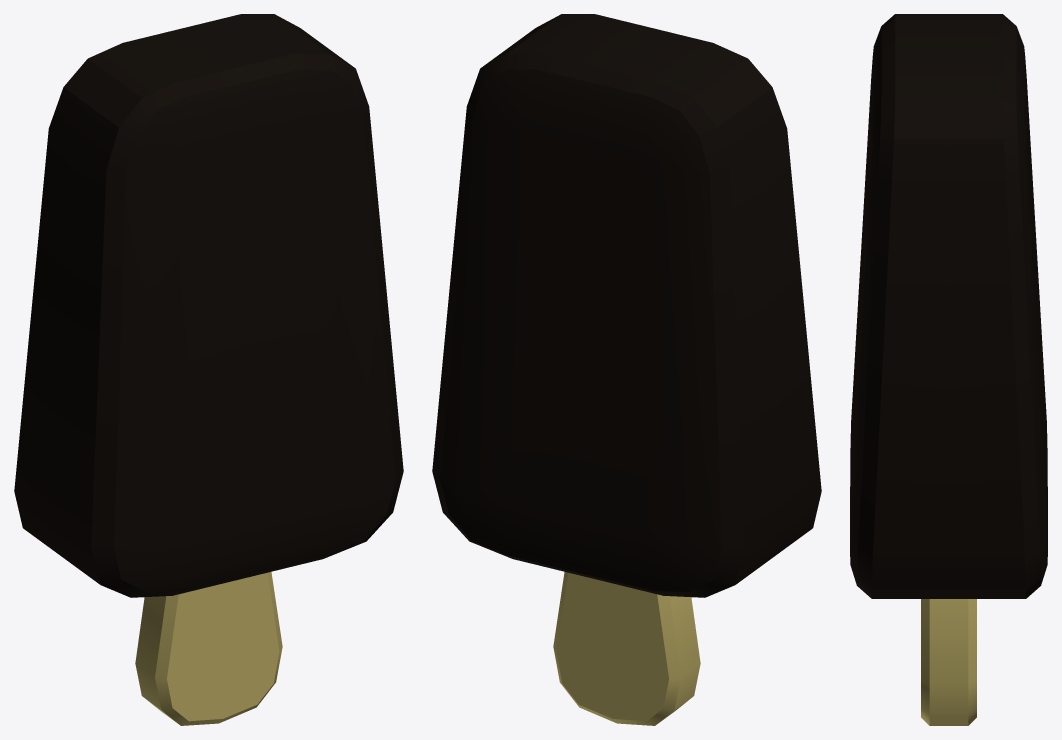
File: Ice cream_1.FBX
The picture shows the model from 3 angles, left to right: view 1: azimuth 30°, elevation 25°; view 2: azimuth 150°, elevation 25°; view 3: azimuth 270°, elevation 25°; orthographic projection.
Visible parts, largest first — view 1: Ice cream_1; view 2: Ice cream_1; view 3: Ice cream_1.
Boxes of the visible parts, <box> form: Ice cream_1: <box>14,14,403,725</box>; Ice cream_1: <box>432,14,821,725</box>; Ice cream_1: <box>850,14,1047,725</box>.
Bounding box in the file's own units: 490 × 271 × 1000.
